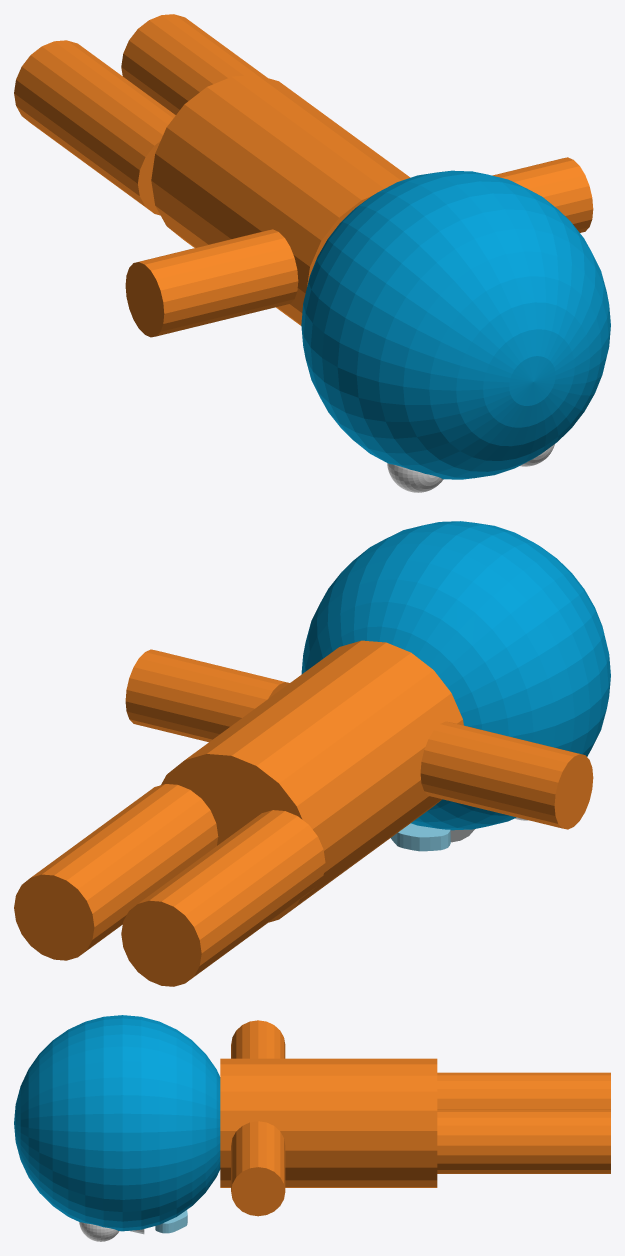
File: tinker.obj
3 views of the same model, one above another, from view 1: azimuth 30°, elevation 25°; view 2: azimuth 150°, elevation 25°; view 3: azimuth 270°, elevation 25° (orthographic). The views are drawn at different scales.
Visible parts, largest first — view 1: group_0_40919, group_0_16089887, group_0_16448250; view 2: group_0_16089887, group_0_40919, group_0_8768998; view 3: group_0_16089887, group_0_40919, group_0_16448250, group_0_8768998.
Boxes of the visible parts, x1=… form: group_0_40919: x1=301, y1=170, x2=610, y2=479; group_0_16089887: x1=14, y1=14, x2=593, y2=337; group_0_16448250: x1=387, y1=444, x2=554, y2=492; group_0_16089887: x1=14, y1=640, x2=593, y2=986; group_0_40919: x1=301, y1=521, x2=610, y2=830; group_0_8768998: x1=391, y1=823, x2=450, y2=851; group_0_16089887: x1=220, y1=1020, x2=610, y2=1216; group_0_40919: x1=14, y1=1015, x2=220, y2=1231; group_0_16448250: x1=79, y1=1222, x2=119, y2=1241; group_0_8768998: x1=155, y1=1210, x2=187, y2=1233.
Bounding box in the file's own units: 32 × 21 × 55.
